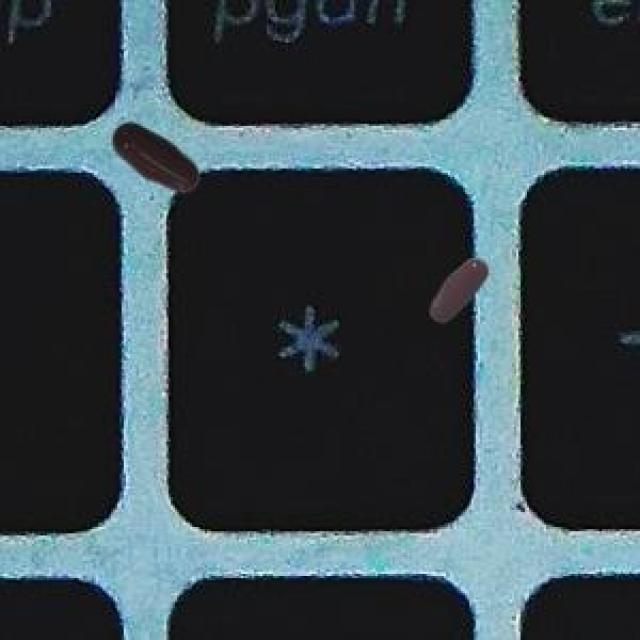DayZinc: (90, 82, 214, 213), (423, 240, 493, 340)
